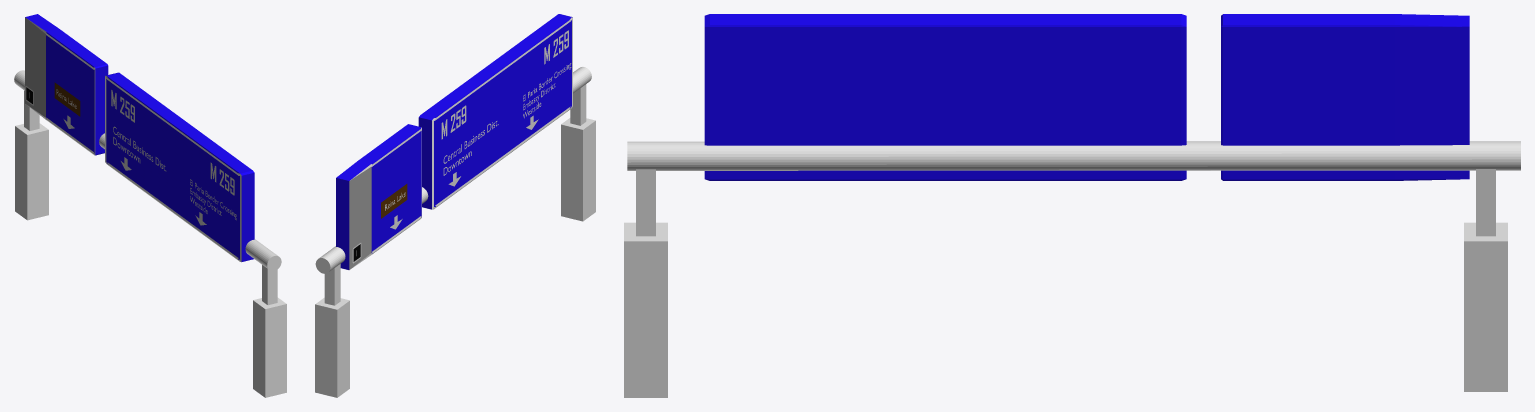
The model's file is UK_Motorway_gantry_2.fbx.
3 views of the same model, side by side, from view 1: azimuth 30°, elevation 25°; view 2: azimuth 150°, elevation 25°; view 3: azimuth 270°, elevation 25° (orthographic). The views are drawn at different scales.
Parts seen in each view (by area): view 1: Cube.003, Cube.001, Cube.002, Cube, Cylinder, Plane.004, Text.003, Text.002, Text.005, Text.004; view 2: Cube.003, Cube.001, Cube.002, Cube, Cylinder, Plane.004, Text.003, Text.002, Text.004, Text.005; view 3: Cube.003, Cube.001, Cylinder, Cube.002, Cube.
Boxes of the visible parts, <box> form: Cube.003: <box>105,72,254,262</box>; Cube.001: <box>25,14,108,155</box>; Cube.002: <box>253,265,286,397</box>; Cube: <box>15,90,48,220</box>; Cylinder: <box>14,70,281,270</box>; Plane.004: <box>54,82,80,116</box>; Text.003: <box>190,179,236,220</box>; Text.002: <box>113,126,166,171</box>; Text.005: <box>210,162,234,195</box>; Text.004: <box>111,90,134,122</box>; Cube.003: <box>418,14,572,209</box>; Cube.001: <box>336,124,421,269</box>; Cube.002: <box>561,84,595,221</box>; Cube: <box>315,264,349,397</box>; Cylinder: <box>315,67,591,273</box>; Plane.004: <box>381,184,407,218</box>; Text.003: <box>523,63,571,118</box>; Text.002: <box>443,121,498,175</box>; Text.004: <box>441,105,466,139</box>; Text.005: <box>544,30,568,64</box>; Cube.003: <box>704,14,1186,180</box>; Cube.001: <box>1221,14,1469,180</box>; Cylinder: <box>627,141,1520,170</box>; Cube.002: <box>624,169,667,397</box>; Cube: <box>1464,169,1507,391</box>.
Size of the model in its own units: 6.66 by 55.12 by 123.
